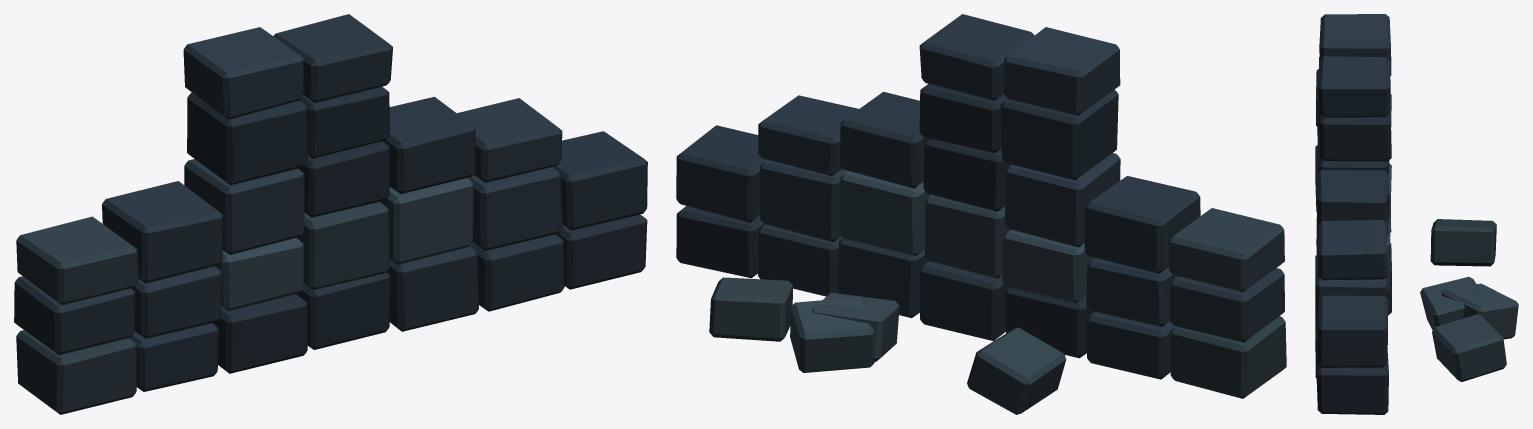
File: inc_mare_muro.fbx
3 views of the same model, side by side, from view 1: azimuth 30°, elevation 25°; view 2: azimuth 150°, elevation 25°; view 3: azimuth 270°, elevation 25° (orthographic). The views are drawn at different scales.
Parts seen in each view (by area): view 1: inc_mare_muro; view 2: inc_mare_muro; view 3: inc_mare_muro.
Part boxes in pixels (x1,y1,x2,y2): inc_mare_muro: (14, 14, 647, 414); inc_mare_muro: (676, 14, 1286, 414); inc_mare_muro: (1315, 14, 1518, 414).
Size of the model in its own units: 13.98 by 6.91 by 5.2.
